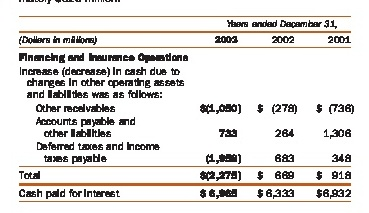table: (0, 0, 369, 213)
